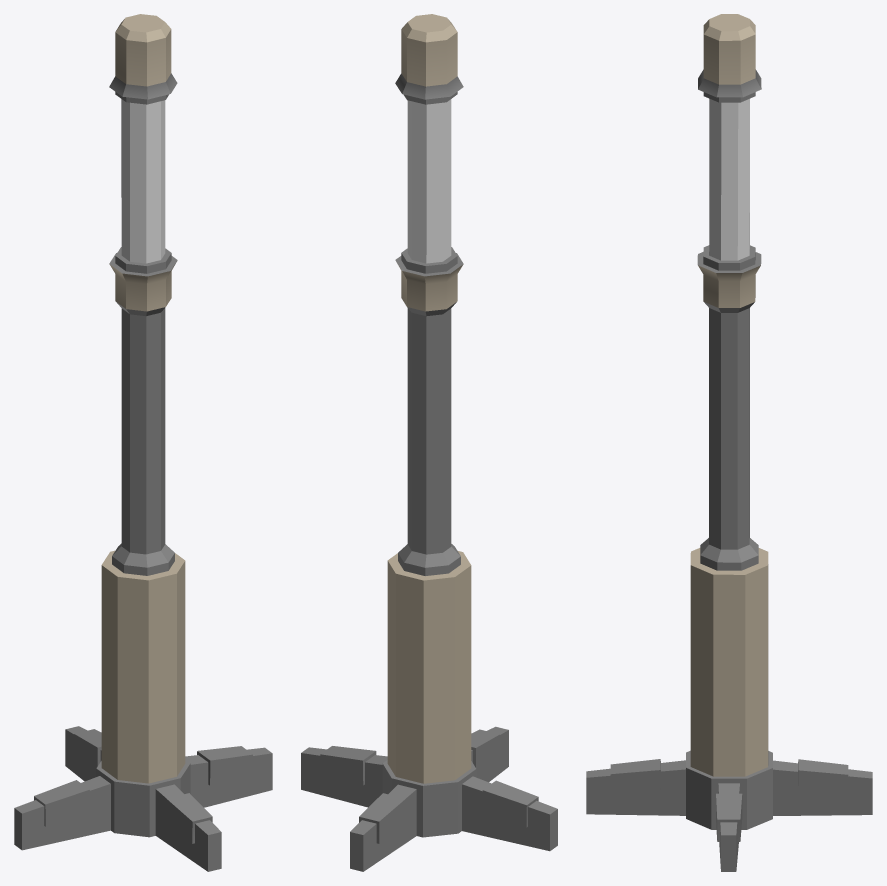
File: Lamp_2.fbx
3 renders of one model, left to right at view 1: azimuth 30°, elevation 25°; view 2: azimuth 150°, elevation 25°; view 3: azimuth 270°, elevation 25°, orthographic.
Parts seen in each view (by area): view 1: pCylinder7; view 2: pCylinder7; view 3: pCylinder7.
Boxes of the visible parts, x1=… form: pCylinder7: x1=14, y1=14, x2=272, y2=871; pCylinder7: x1=301, y1=14, x2=557, y2=871; pCylinder7: x1=586, y1=14, x2=872, y2=871.
Size of the model in its own units: 25.07 by 76.15 by 25.07.
